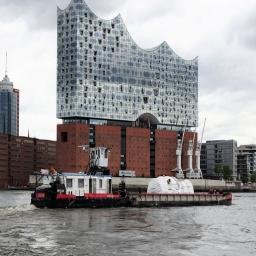tugboat: (31, 143, 131, 214)
